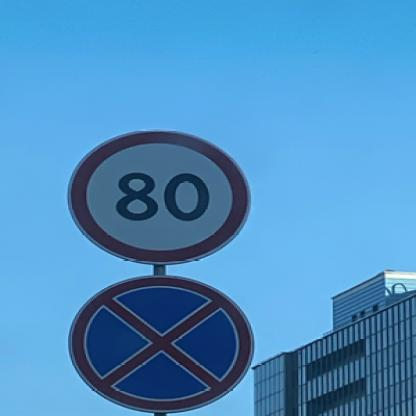Speed Limit 80: (65, 127, 248, 266)
